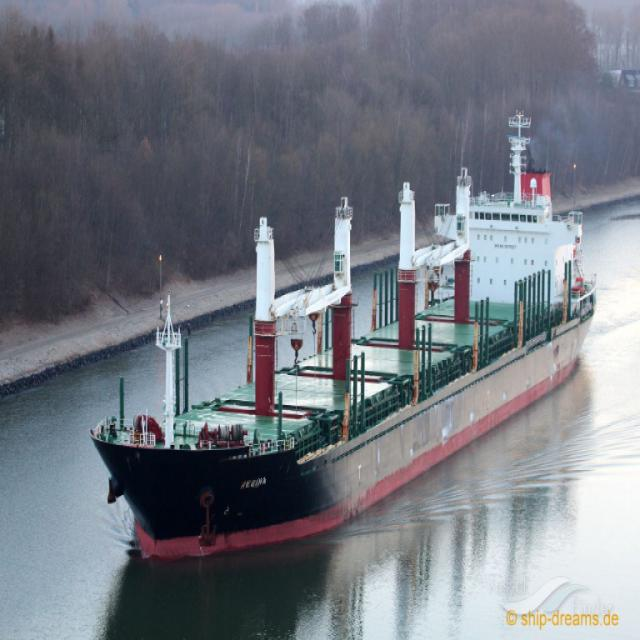OCR: (235, 474, 269, 498)
